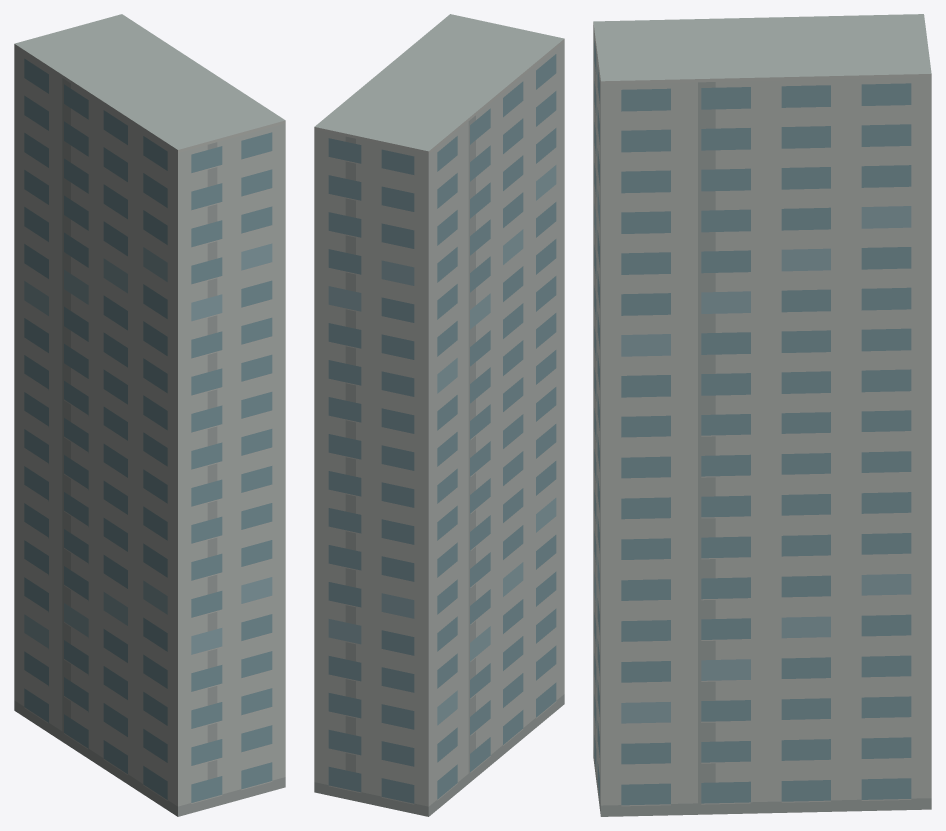
Rendered from residential-bcc635f7-6cb0-41e0-8a9a-311e5f418502.glb.
3 views of the same model, side by side, from view 1: azimuth 30°, elevation 25°; view 2: azimuth 150°, elevation 25°; view 3: azimuth 270°, elevation 25° (orthographic). The views are drawn at different scales.
Parts seen in each view (by area): view 1: residential-bcc635f7-6cb0-41e0-8a9a-311e5f418502.tmp; view 2: residential-bcc635f7-6cb0-41e0-8a9a-311e5f418502.tmp; view 3: residential-bcc635f7-6cb0-41e0-8a9a-311e5f418502.tmp.
Boxes of the visible parts, x1,y1,x2,y2 form: residential-bcc635f7-6cb0-41e0-8a9a-311e5f418502.tmp: [14, 14, 285, 816]; residential-bcc635f7-6cb0-41e0-8a9a-311e5f418502.tmp: [314, 14, 564, 816]; residential-bcc635f7-6cb0-41e0-8a9a-311e5f418502.tmp: [593, 14, 931, 816].
Bounding box in the file's own units: 10.77 × 54.9 × 22.89.
